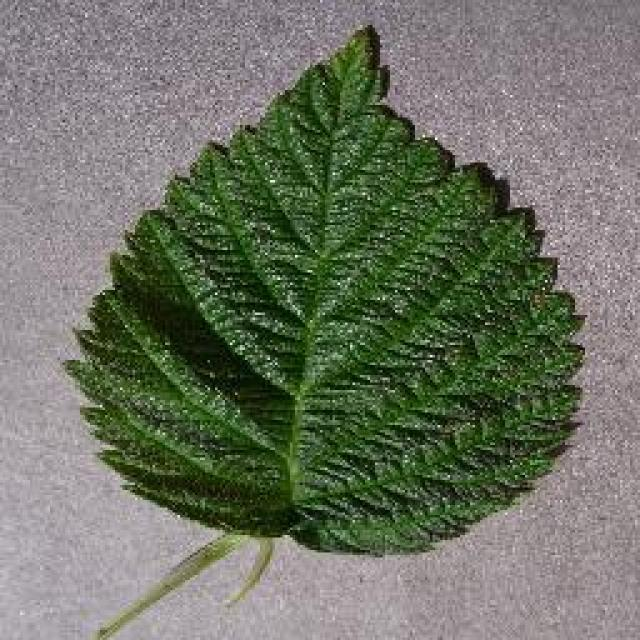Ras_healthy: (82, 104, 534, 548)
